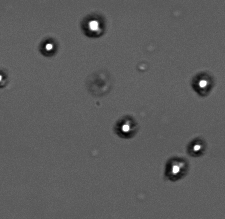Dead Cell: (89, 72, 111, 94), (1, 68, 8, 89)
Living Cell: (191, 71, 215, 97), (81, 14, 105, 38), (165, 157, 188, 181), (115, 116, 138, 139), (187, 137, 205, 157), (39, 38, 57, 56)
